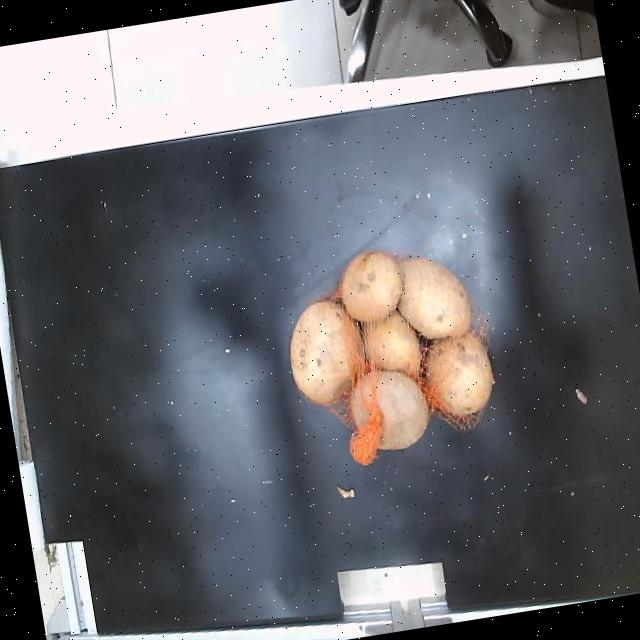potato: (290, 300, 361, 404), (351, 371, 430, 464), (399, 258, 472, 339), (426, 333, 494, 416), (340, 252, 402, 321), (364, 311, 422, 376)
